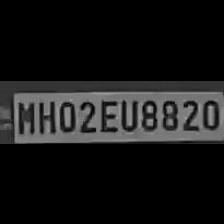0: (56, 98, 76, 132), (200, 96, 220, 128)
2: (77, 96, 97, 134), (178, 95, 198, 131)
8: (138, 95, 158, 131), (158, 95, 178, 131)
E: (98, 96, 116, 132)
H: (36, 96, 55, 134)
M: (15, 98, 35, 134)
U: (118, 95, 138, 131)
